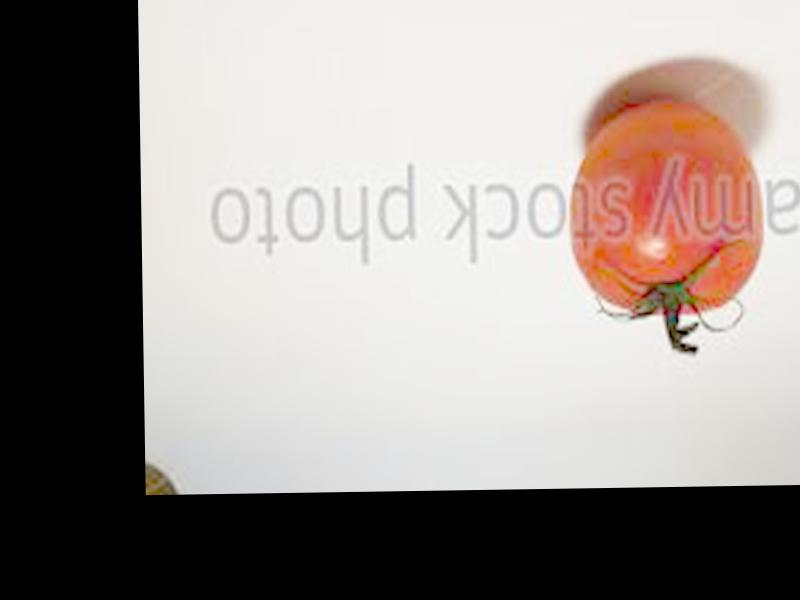Tomato: (566, 101, 764, 320)
